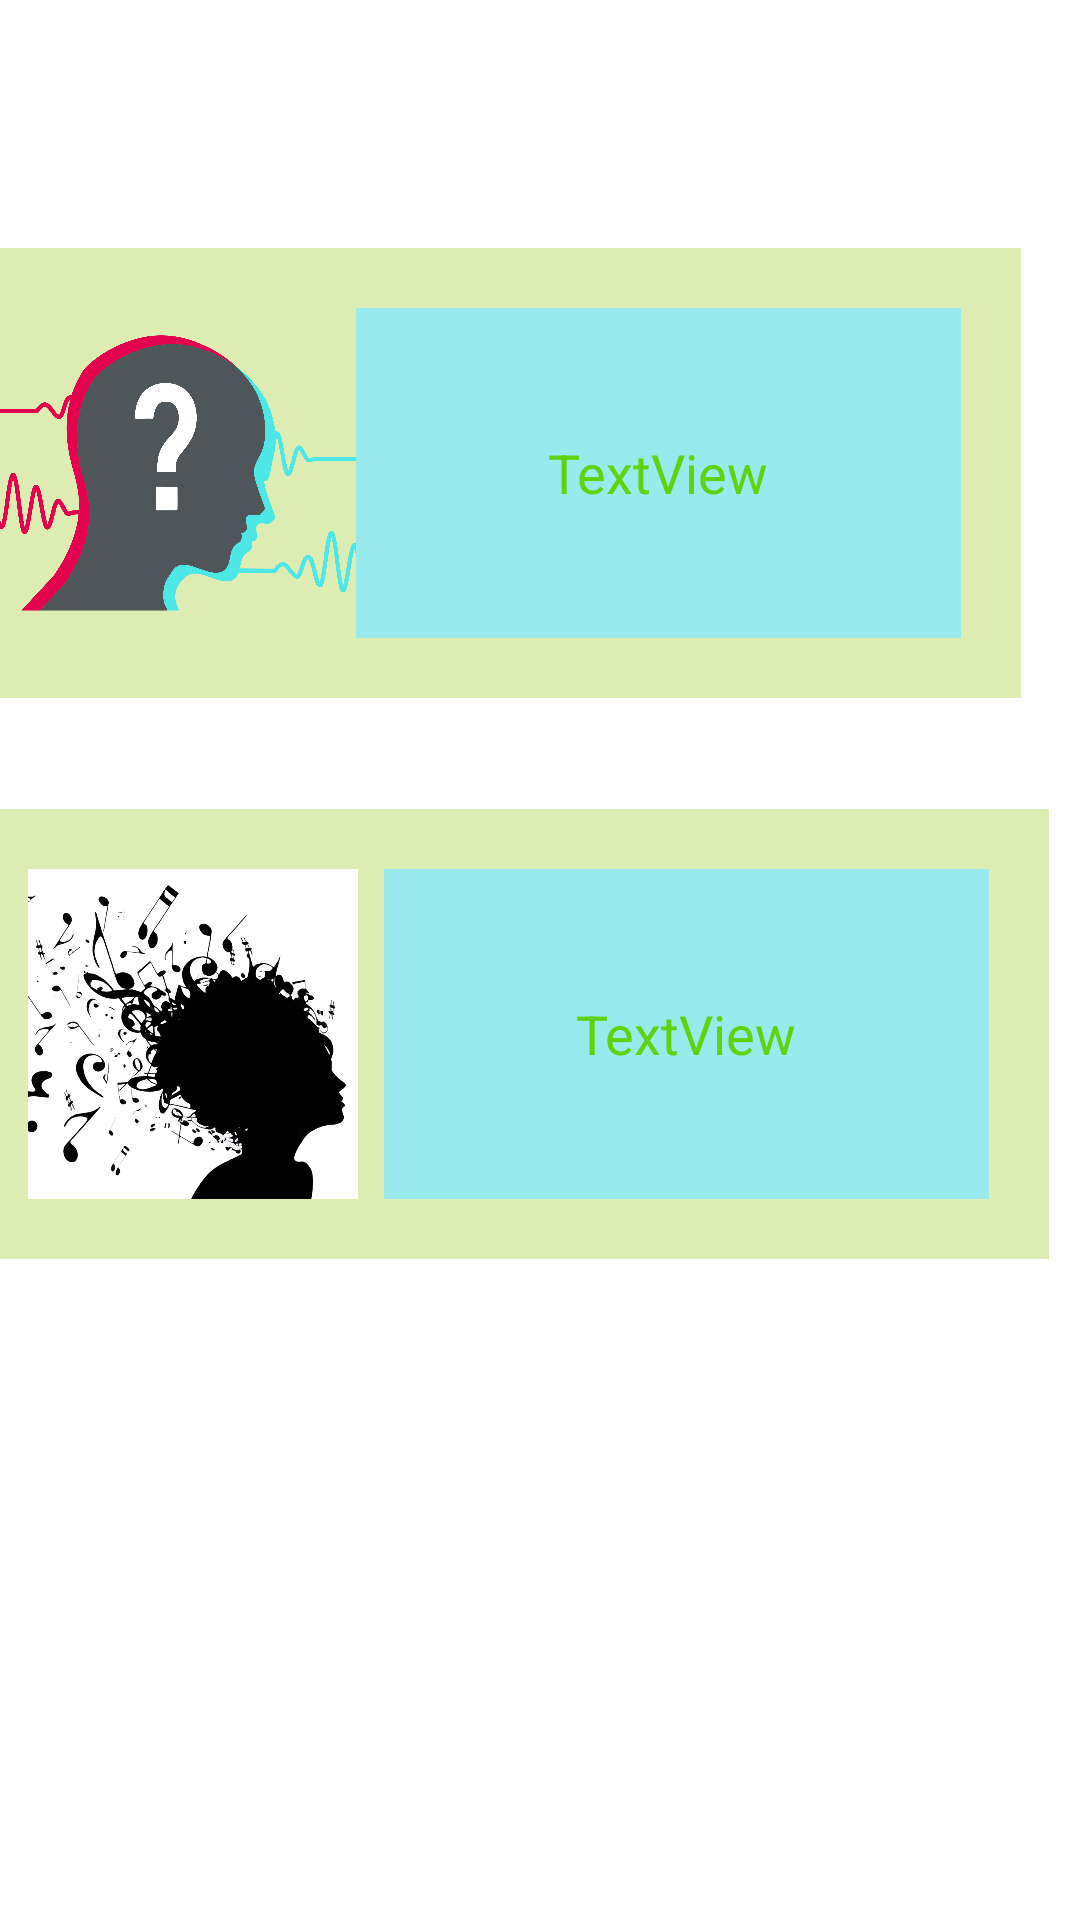

Icon click points for this 1080x1920 phone screenshot, format (x=x, y=y):
assessment: (x=178, y=473)
mus: (x=193, y=1034)
